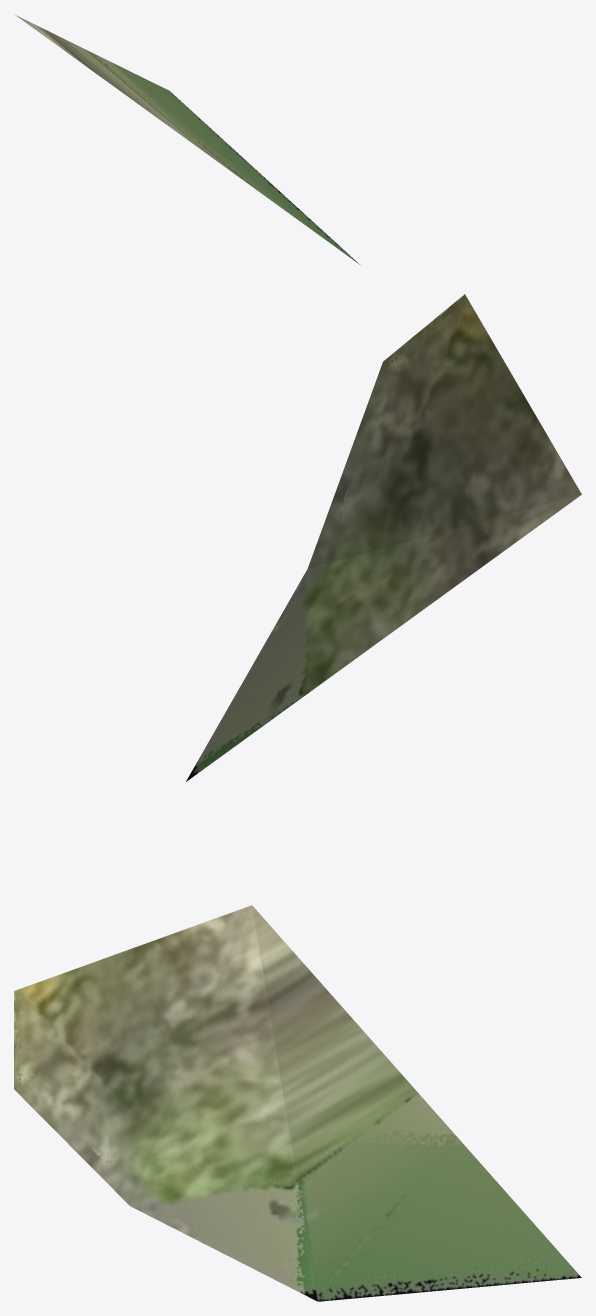
3 views of the same model, one above another, from view 1: azimuth 30°, elevation 25°; view 2: azimuth 150°, elevation 25°; view 3: azimuth 270°, elevation 25° (orthographic). The views are drawn at different scales.
Bounding box in the file's own units: 3.24 × 3.18 × 5.85.
Materials: 1 (1 with a texture image).
